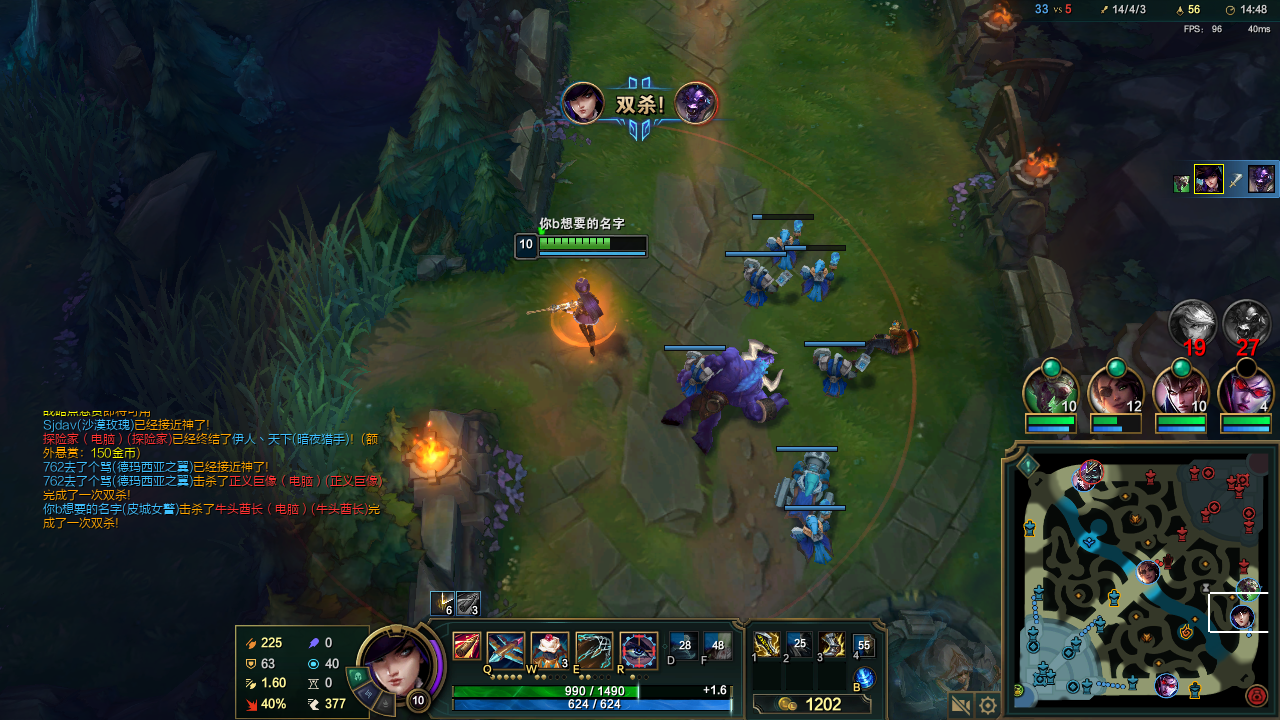WFXB: (773, 458, 829, 510), (812, 345, 856, 389), (676, 353, 719, 390), (796, 258, 835, 295), (762, 229, 805, 261), (741, 264, 772, 299), (798, 517, 823, 554)
